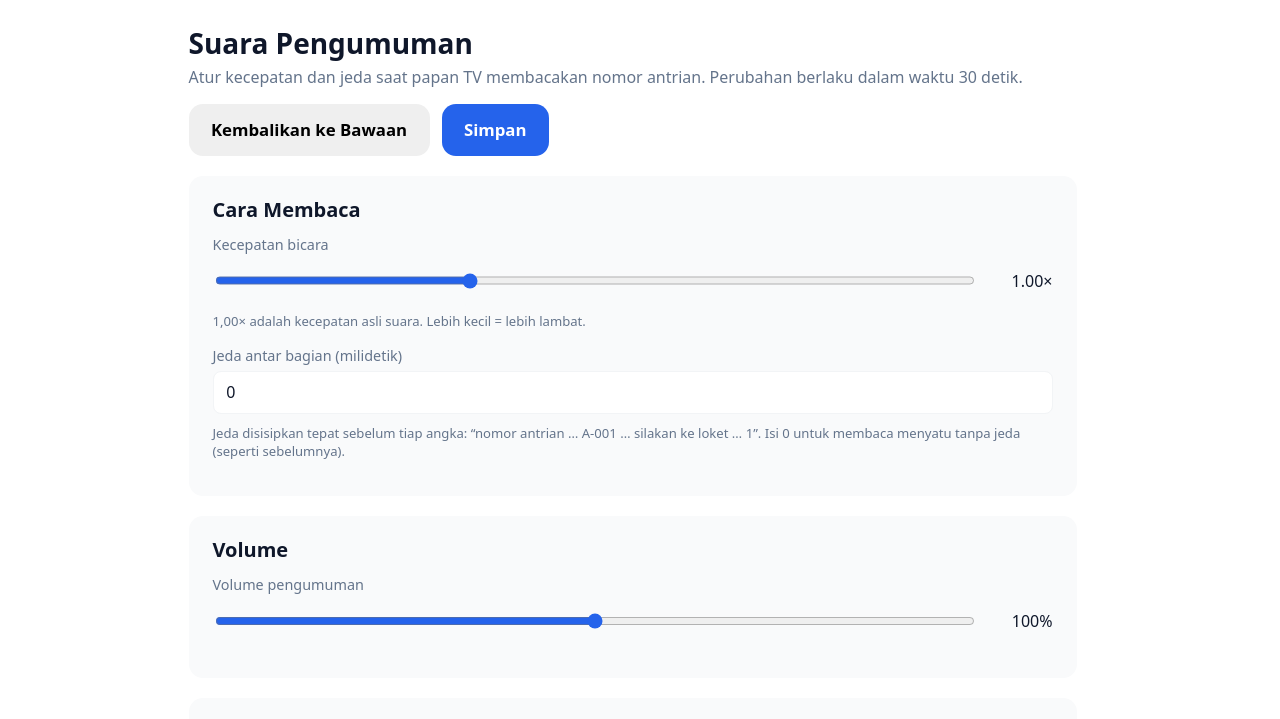
Scenario: TtsConfigPage › save sends the edited delivery plus passthrough of every other field
This screenshot has width=1280, height=719.
Set the slider with test id "tts-speed" to "0.85": (396, 281) [214, 261, 974, 300]
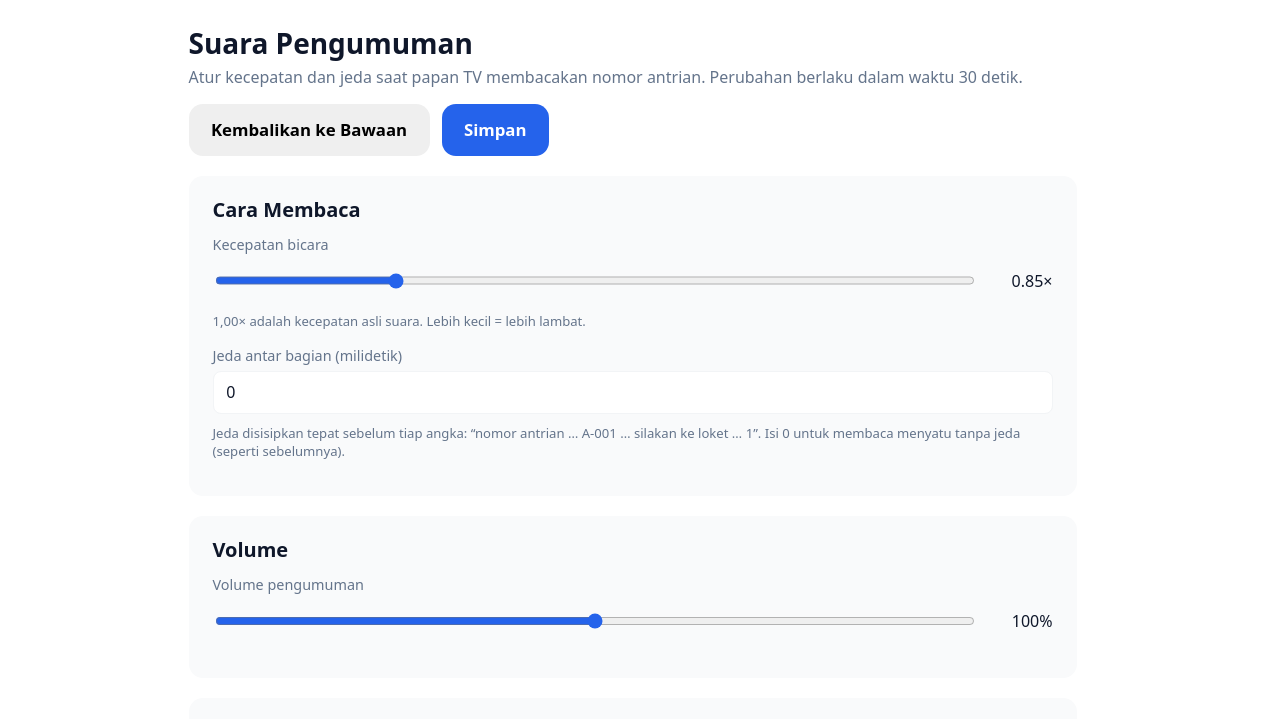
Replace the text in the number field with test id "tts-pause" with "400": (632, 392) [212, 371, 1052, 414]
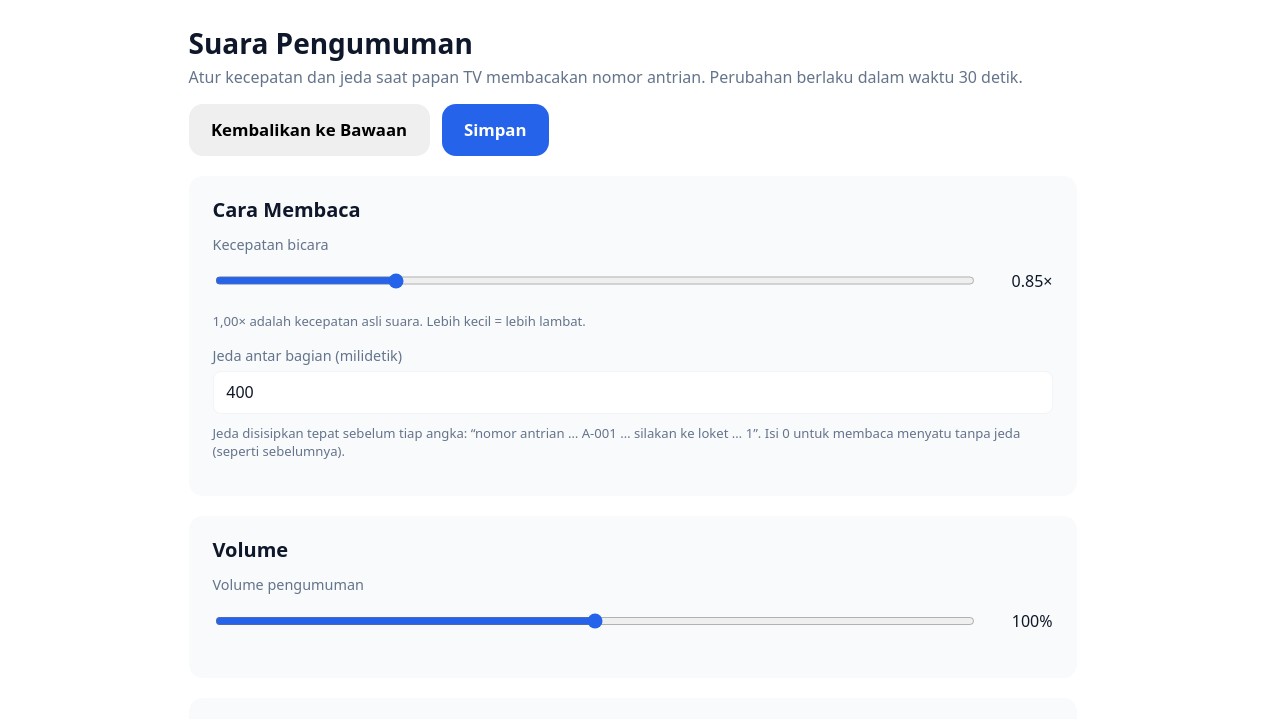
Click the button with test id "tts-save": click(495, 130) [442, 104, 549, 156]
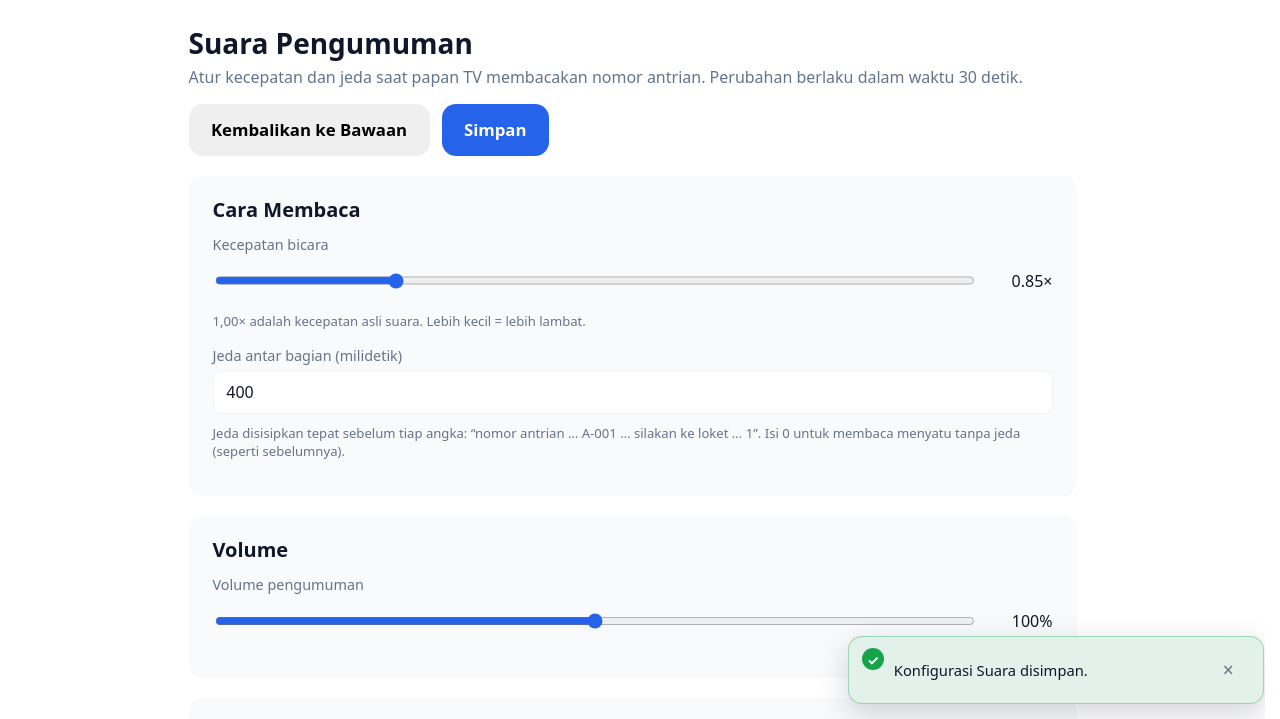
expect the text "Konfigurasi Suara disimpan." is shown: met, box [894, 660, 1088, 680]
